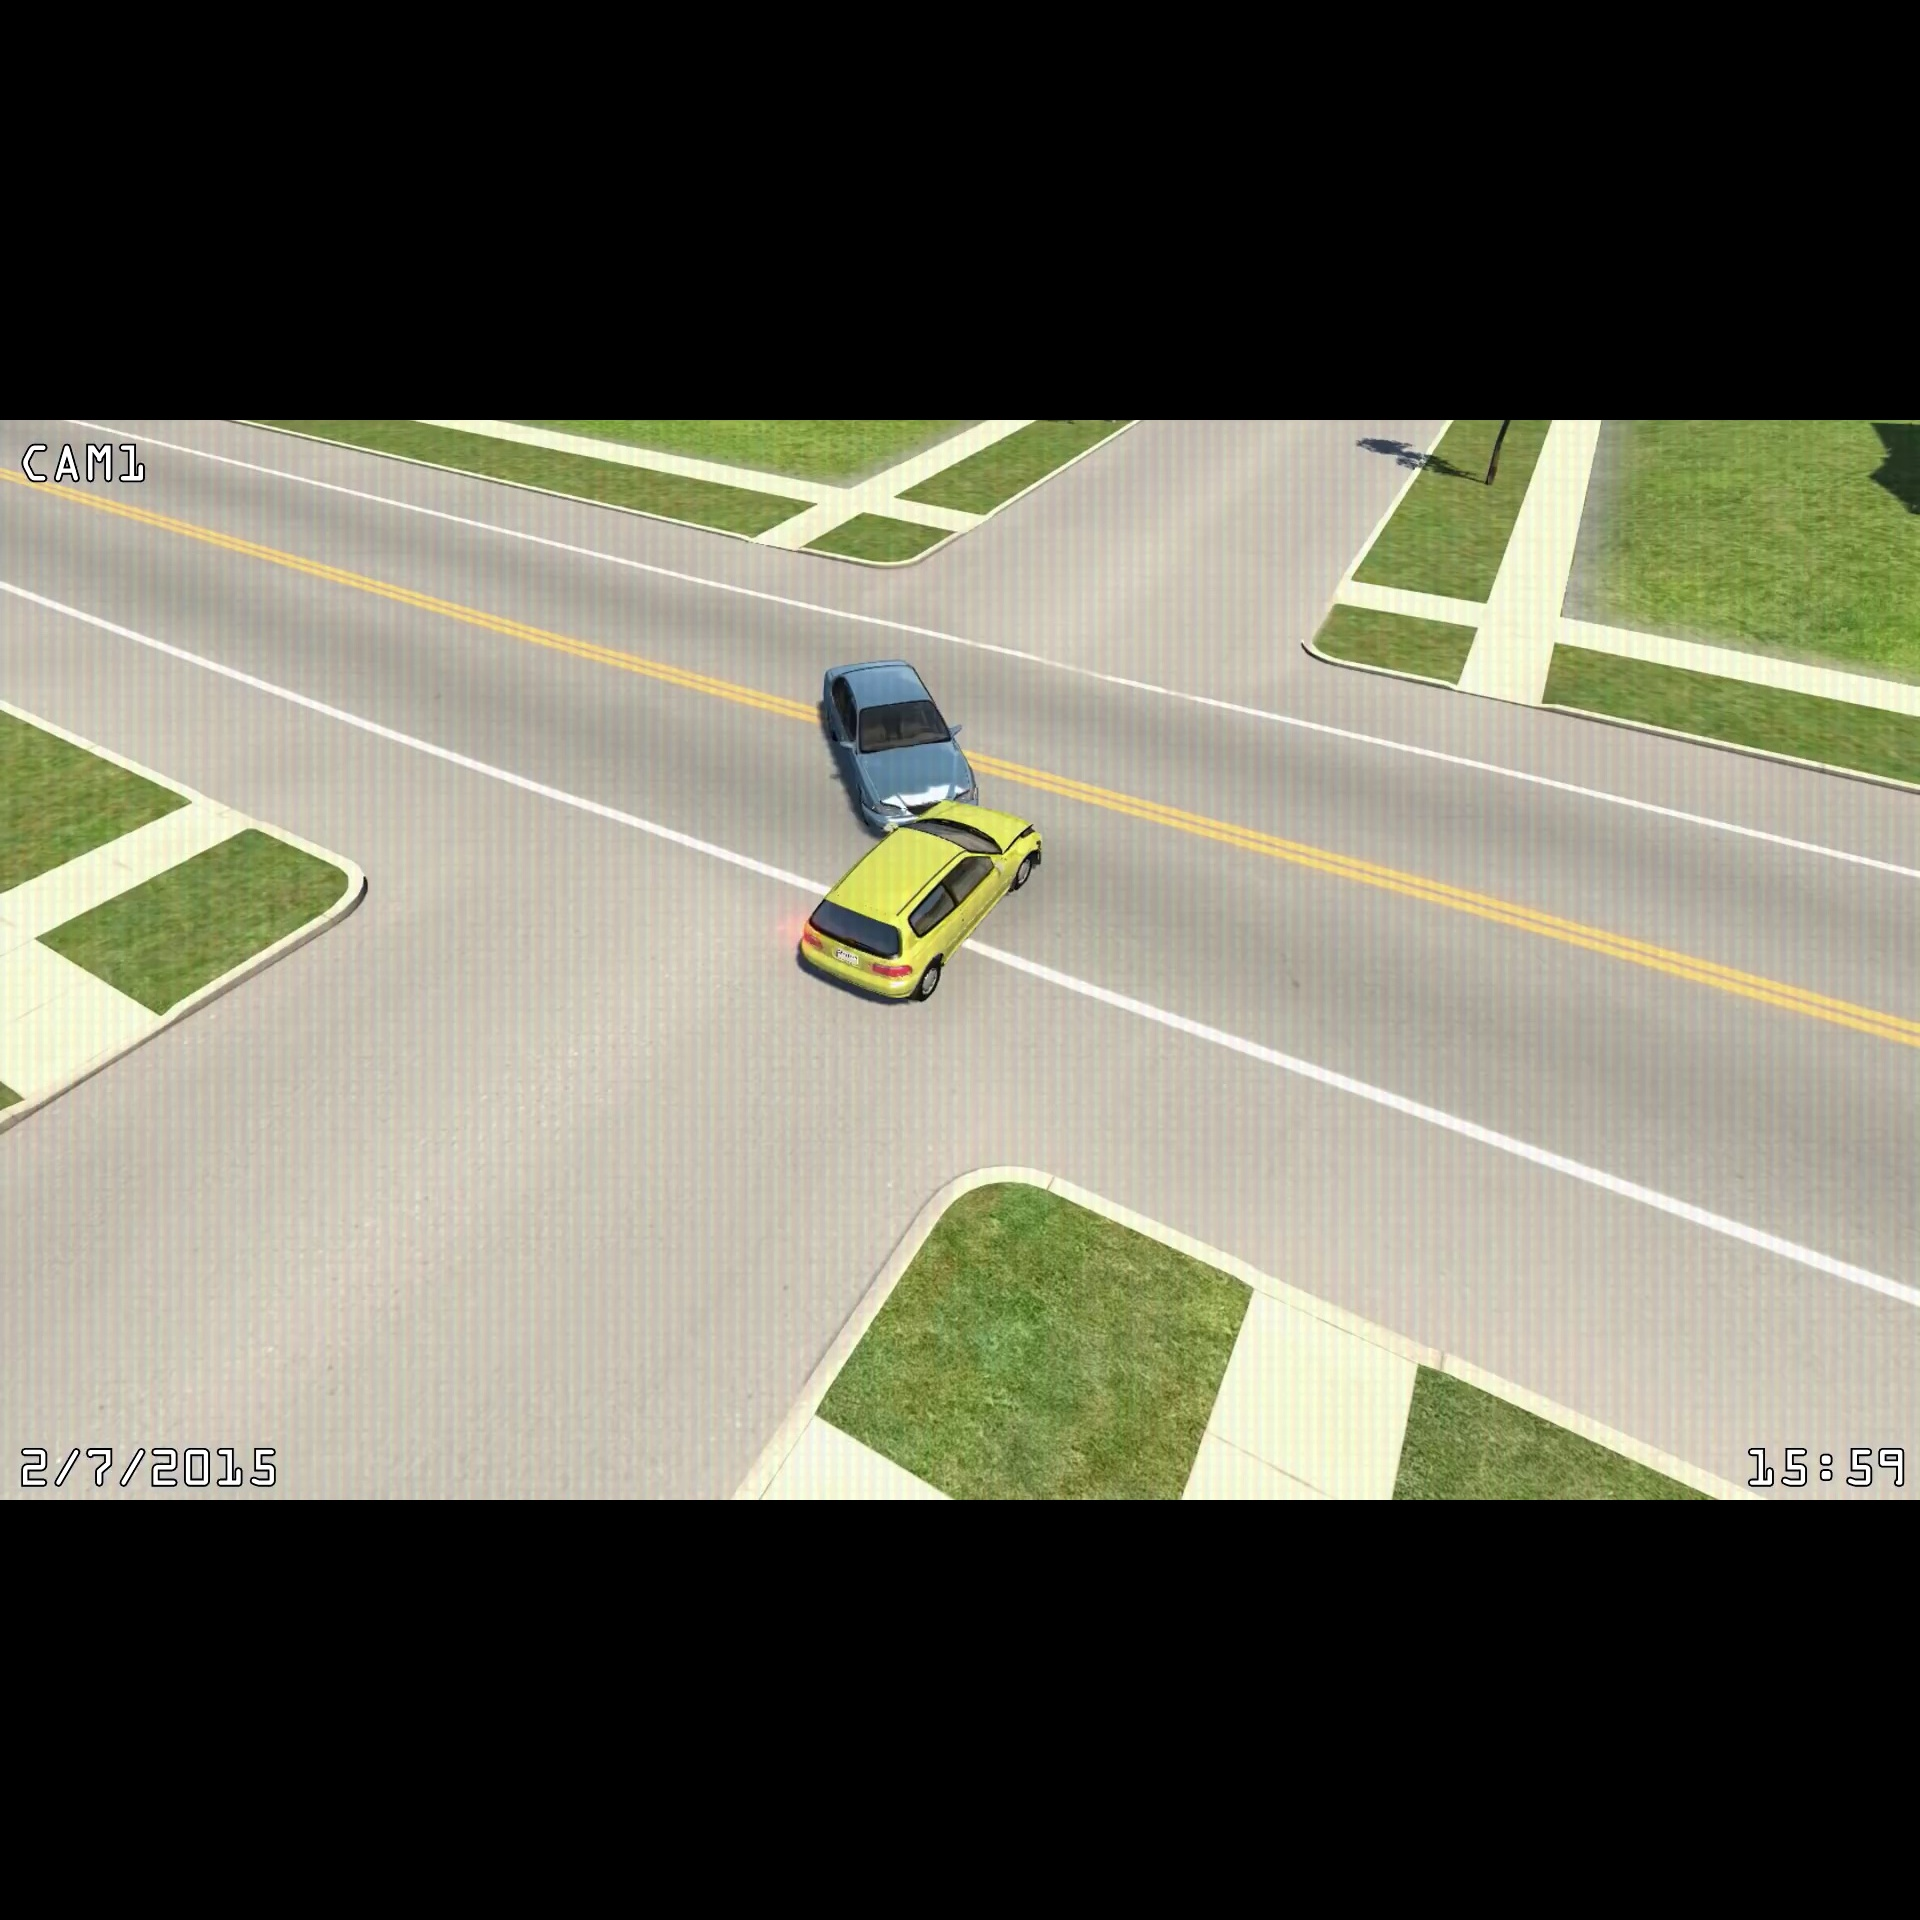vehicle: (784, 789, 1051, 1016), (811, 652, 985, 846)
